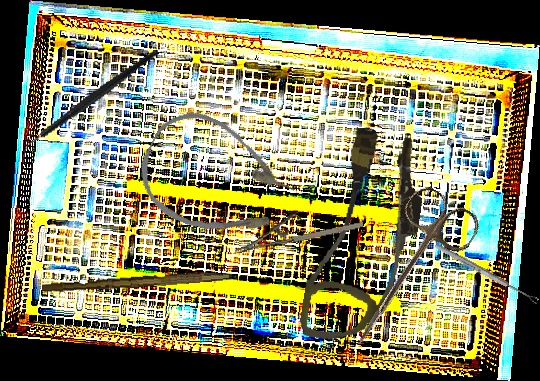Cannula: (297, 123, 433, 351), (126, 98, 307, 261)
Chopper: (2, 49, 177, 161)
Iris Scissors: (330, 181, 485, 366)
Needle Holder: (229, 201, 365, 254)
Scalpel Handle: (41, 266, 233, 297)
Surgical Spoon: (433, 242, 540, 305)
